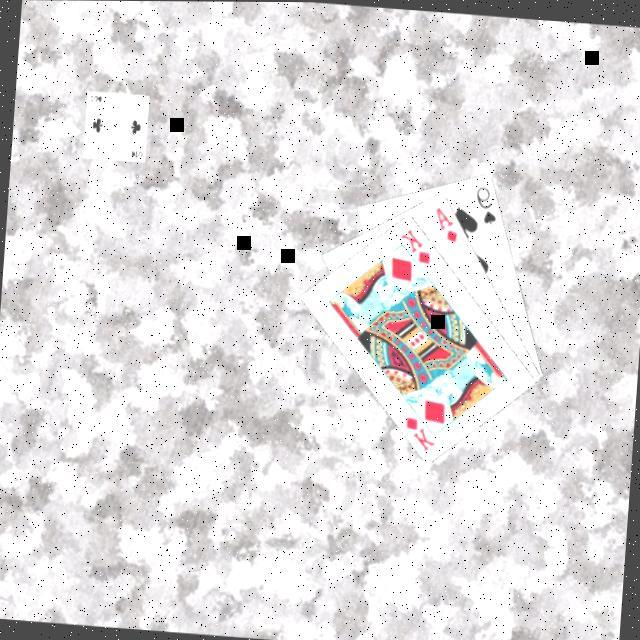9S: (470, 179, 500, 225)
AD: (428, 200, 462, 242)
KD: (398, 409, 439, 452), (394, 221, 434, 264)
